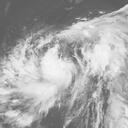cyclone: (13, 19, 95, 105)
